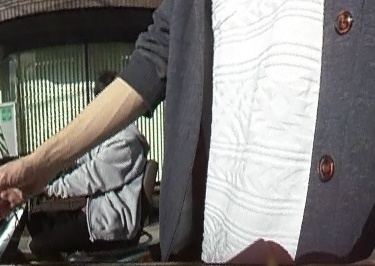person: (31, 69, 144, 266)
